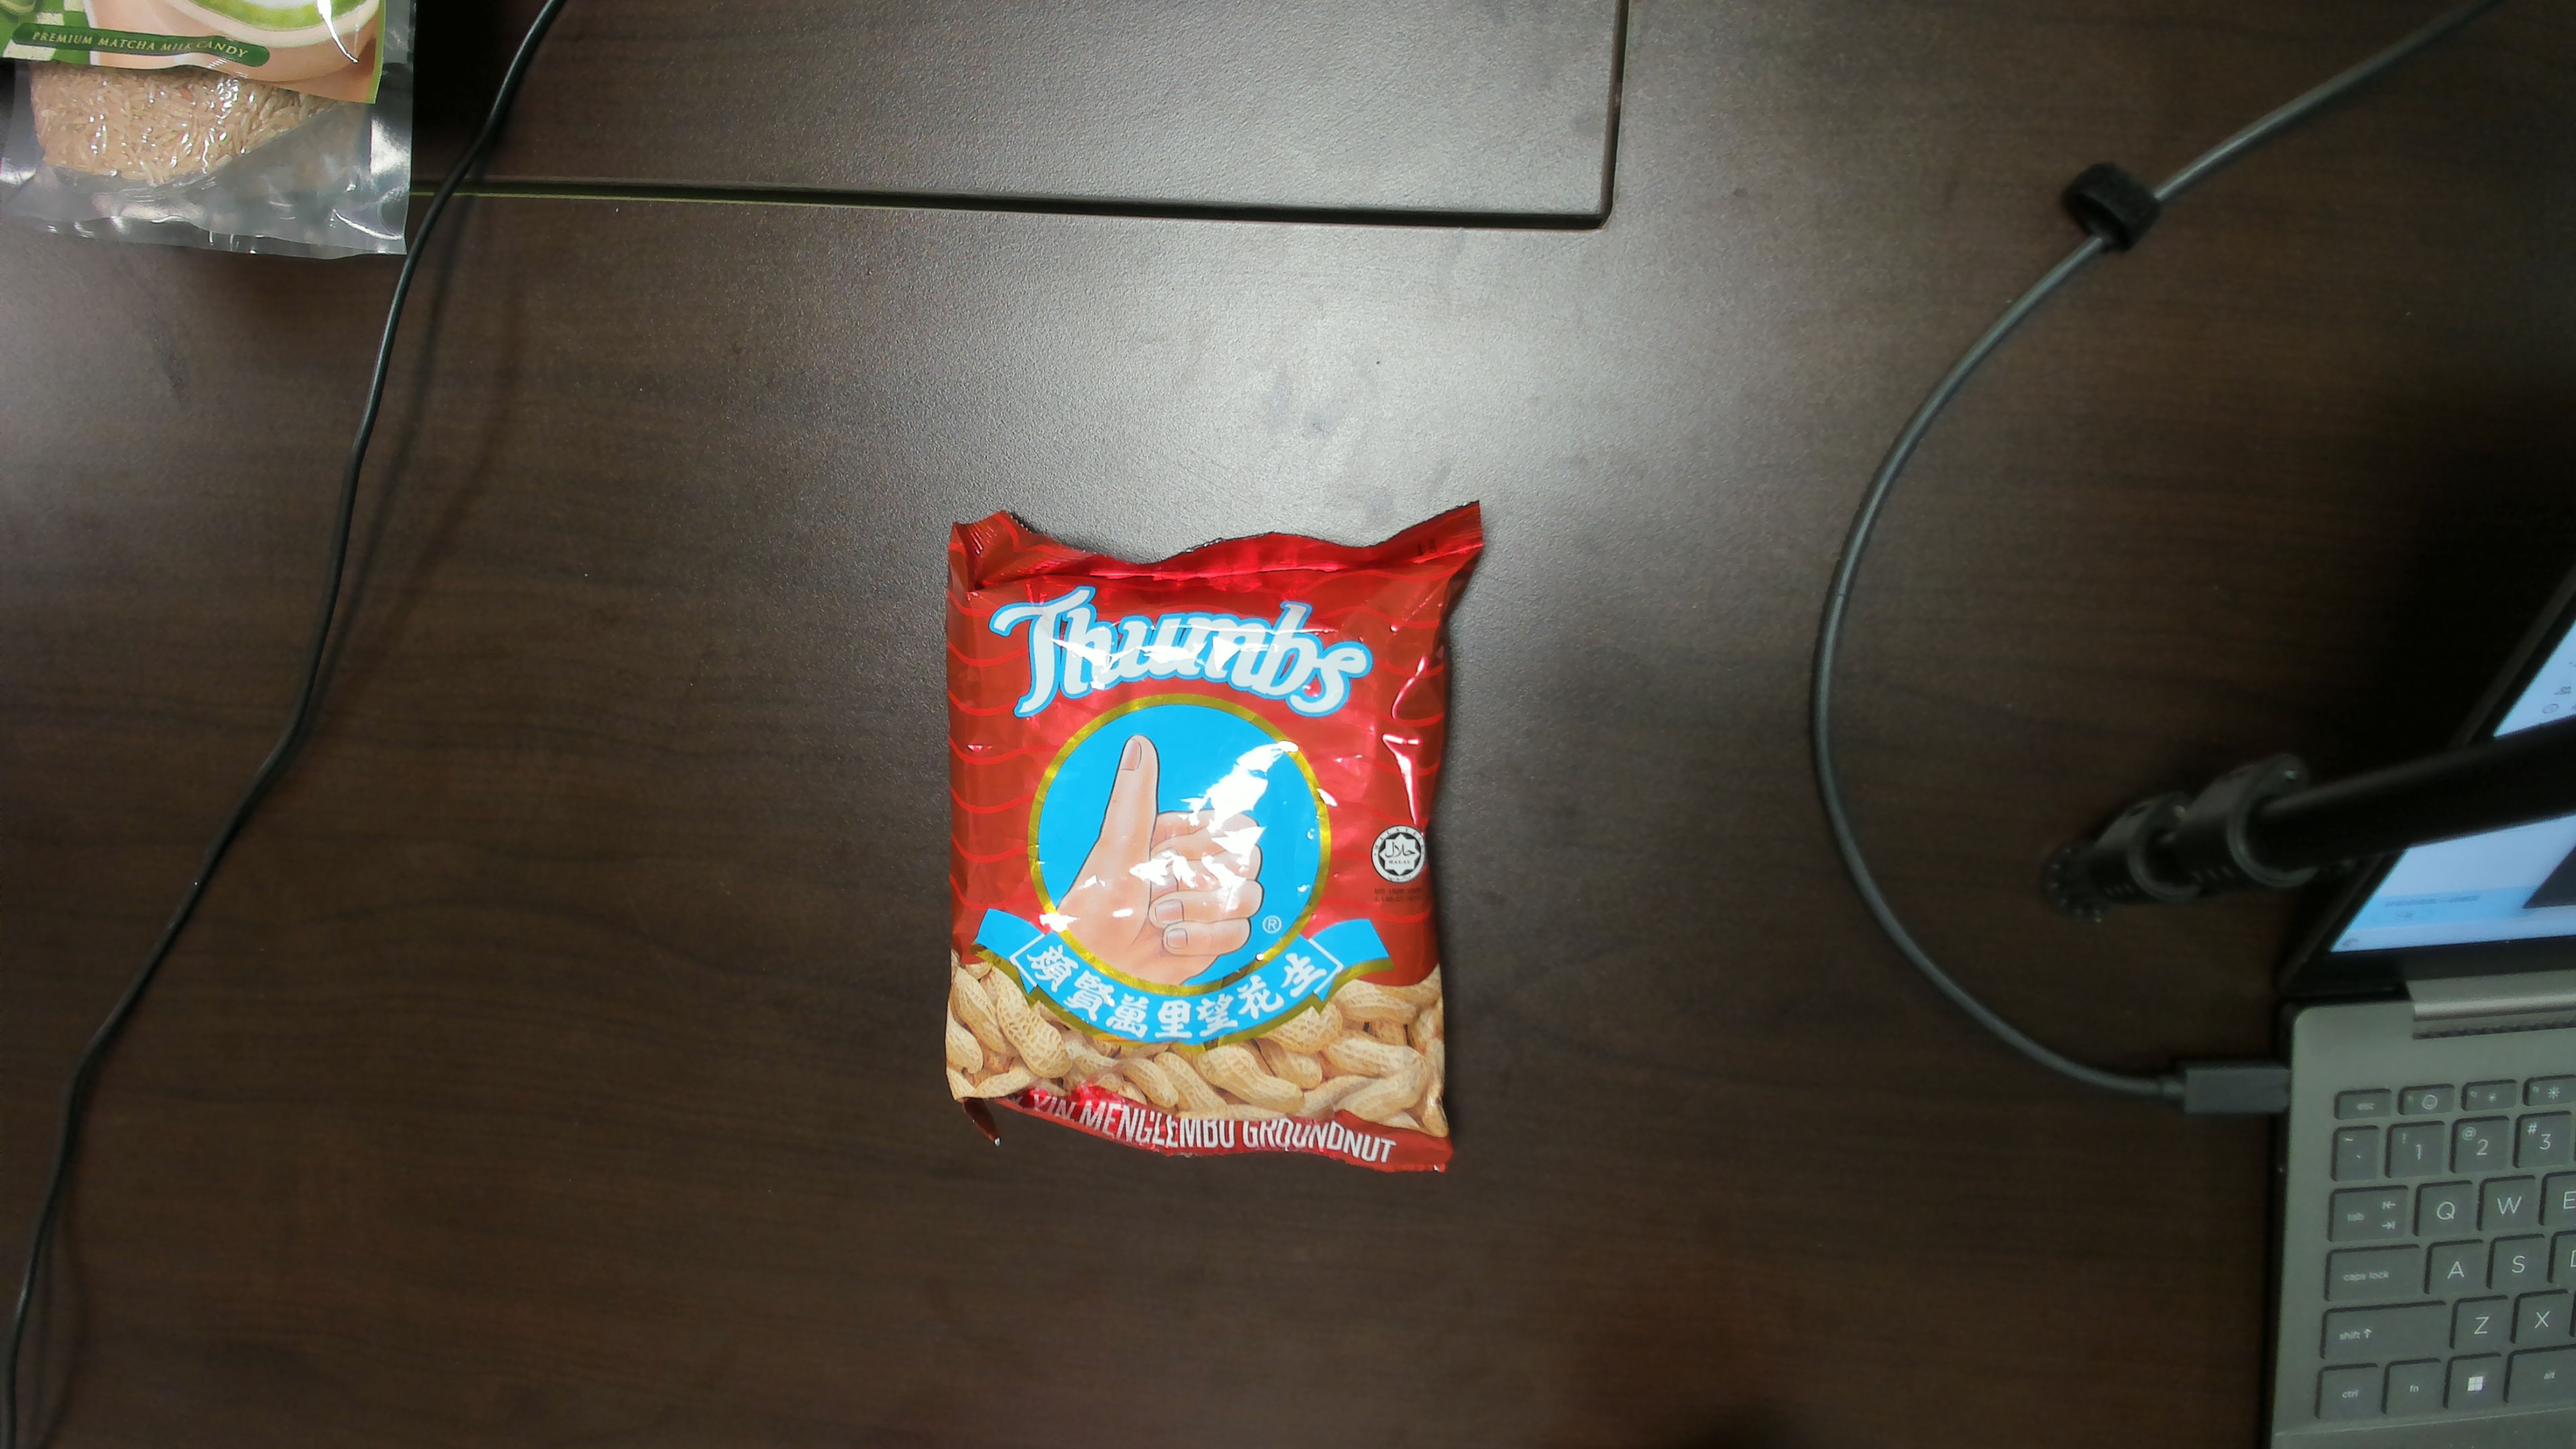Nuts_100-199g_Halal_NonHealthy: (968, 580, 1415, 1116)
